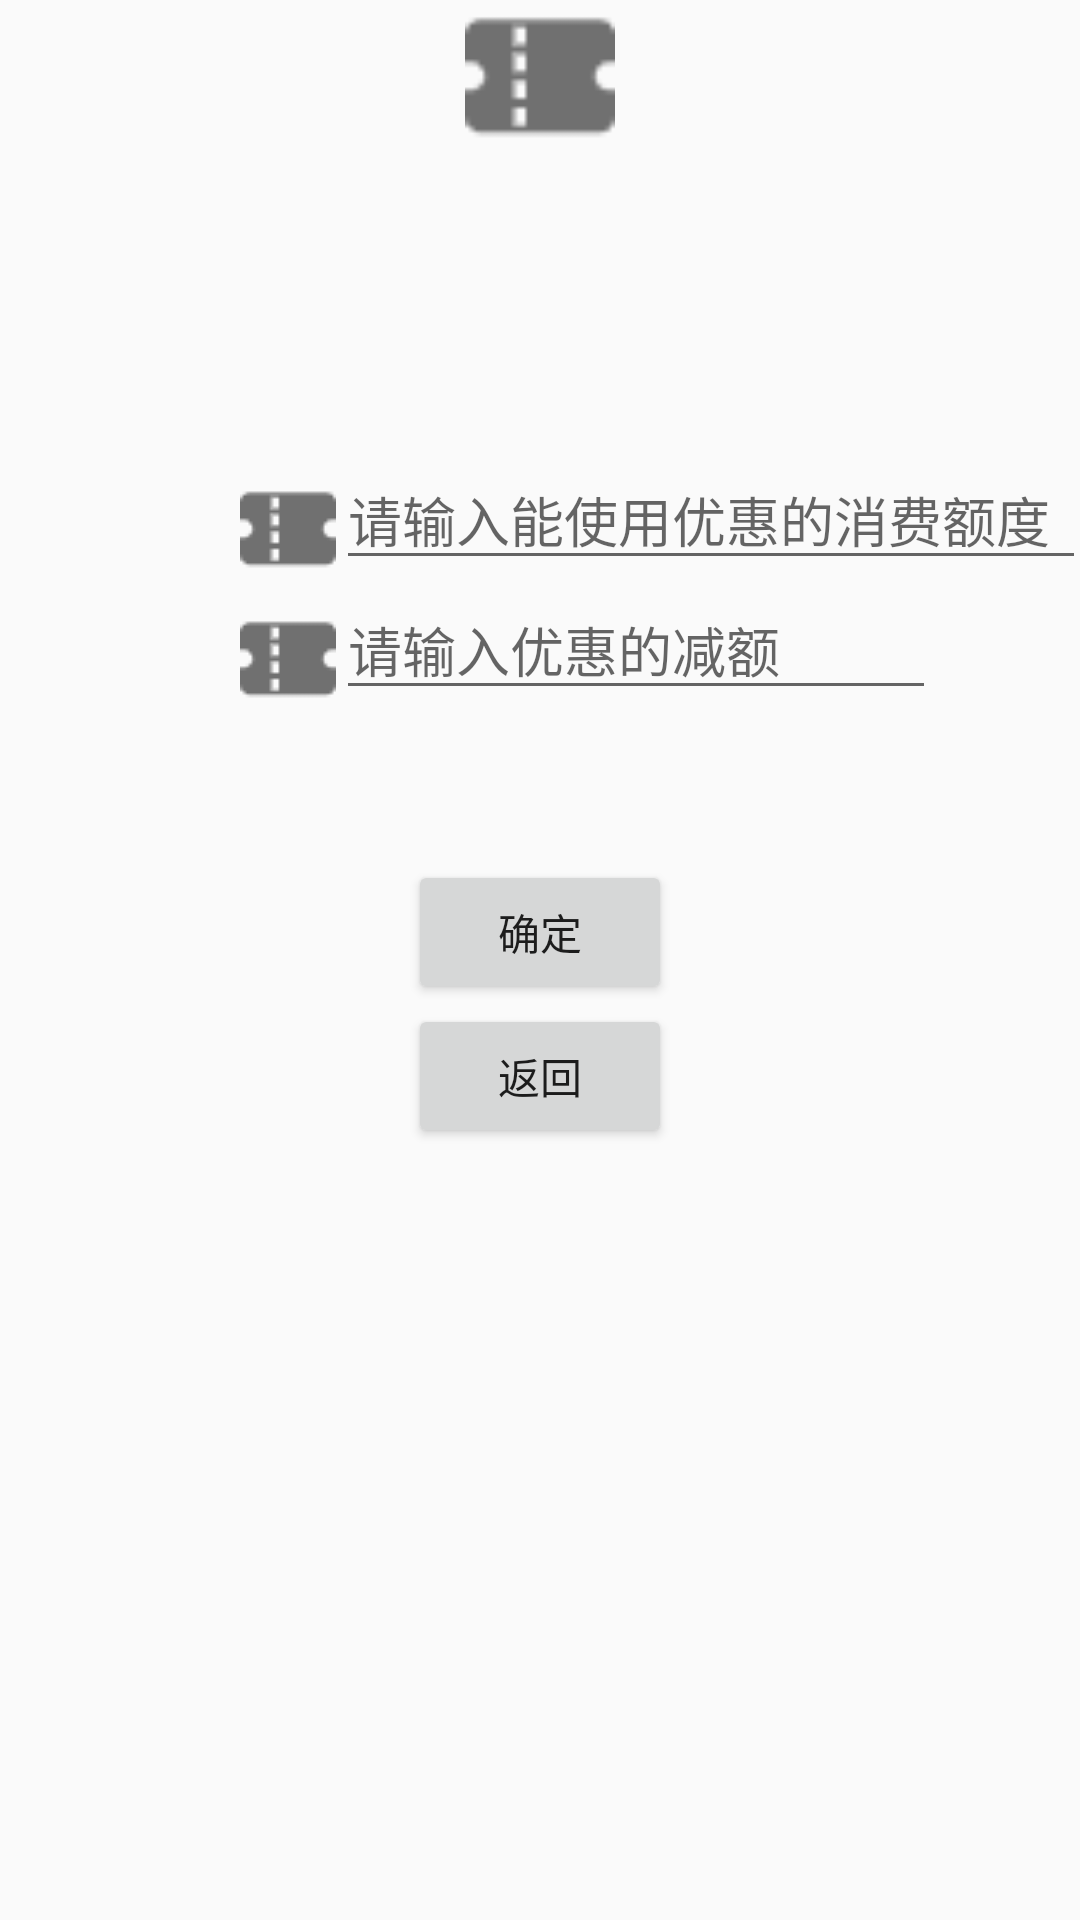

Screen size 1080×1920. Icon name, then its box in pixels as (x1, y1, x2, y2):
youhuiquan: (465, 18, 615, 135), (240, 491, 336, 566), (240, 621, 336, 696)
